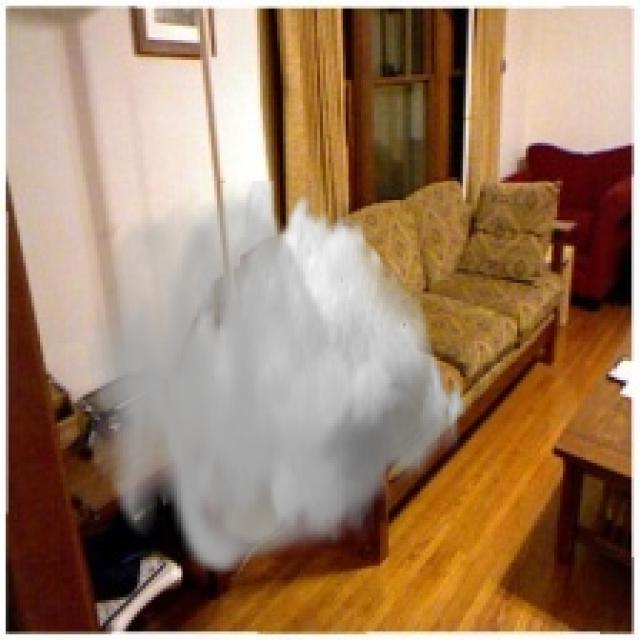Smoke: (86, 180, 468, 580)
